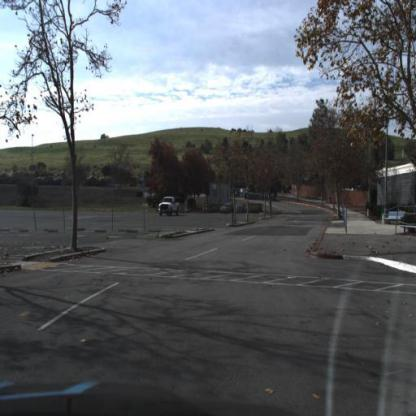car: (157, 195, 185, 221)
